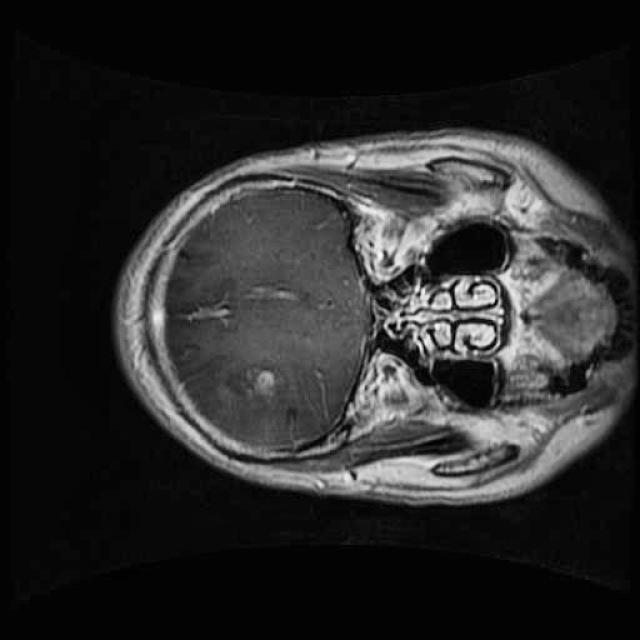Tumor: (211, 343, 321, 431)
